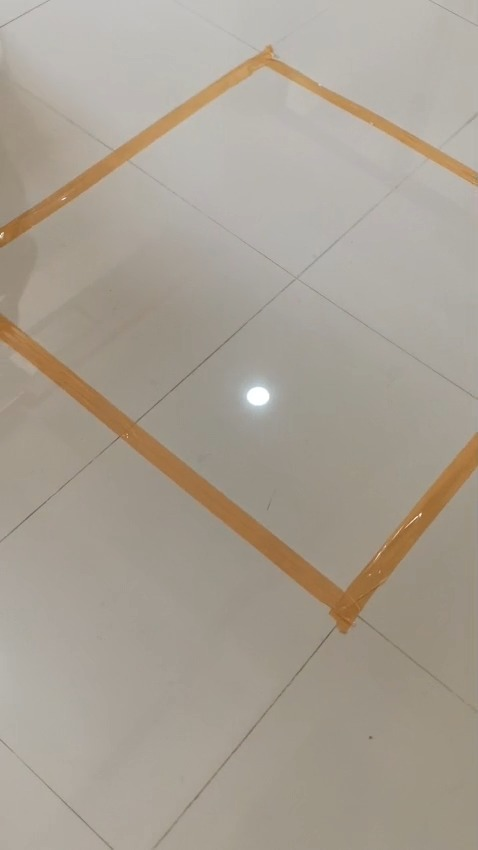floor marking: (0, 315, 477, 633), (1, 46, 477, 247)
